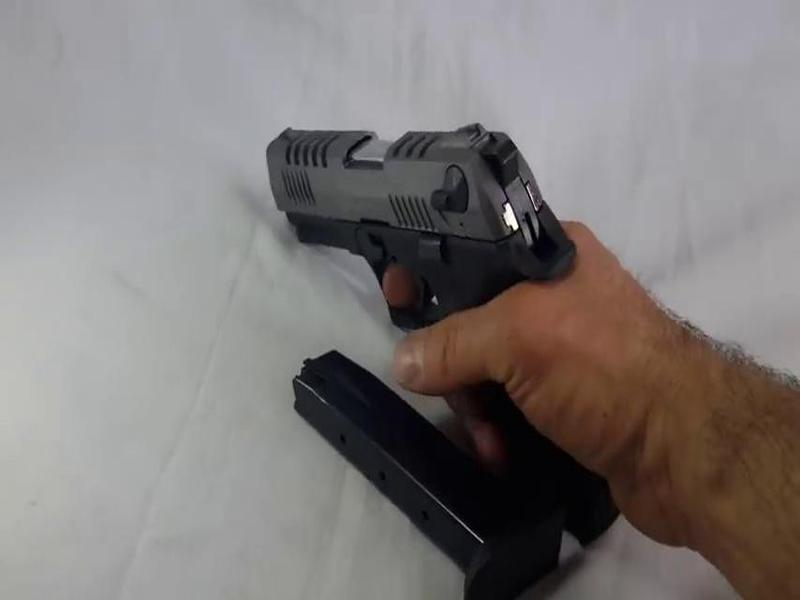Pistola: (238, 75, 609, 455)
